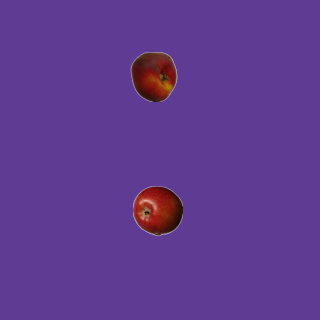Apple Braeburn: (132, 185, 182, 235)
Nectarine Flat: (128, 51, 178, 101)
